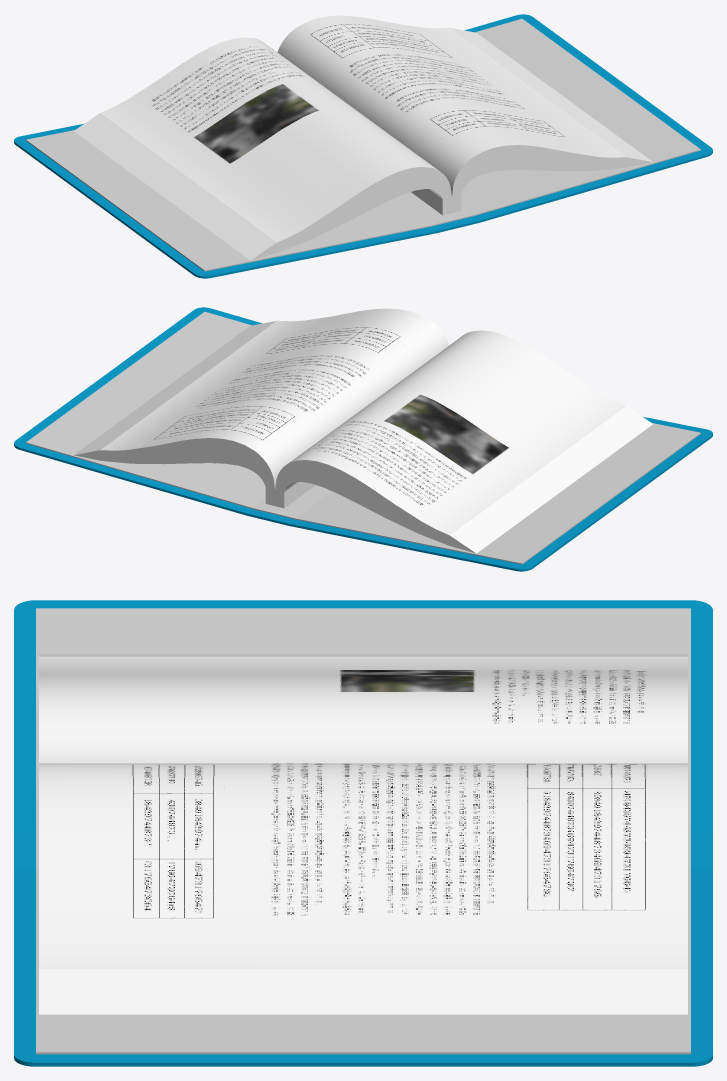
The model's file is 448_パイプ式ファイル細開中身あり.glb.
The picture shows the model from 3 angles, top to bottom: view 1: azimuth 30°, elevation 25°; view 2: azimuth 150°, elevation 25°; view 3: azimuth 270°, elevation 25°; orthographic projection. The views are drawn at different scales.
Parts seen in each view (by area): view 1: 448_pipe_file_S_open_with_contents; view 2: 448_pipe_file_S_open_with_contents; view 3: 448_pipe_file_S_open_with_contents.
Part boxes in pixels (bbox=[...]): 448_pipe_file_S_open_with_contents: bbox=[14, 14, 712, 278]; 448_pipe_file_S_open_with_contents: bbox=[14, 307, 712, 571]; 448_pipe_file_S_open_with_contents: bbox=[14, 600, 712, 1066].
Bounding box in the file's own units: 0.5013 × 0.06 × 0.32.
6 materials, 1 textured.
